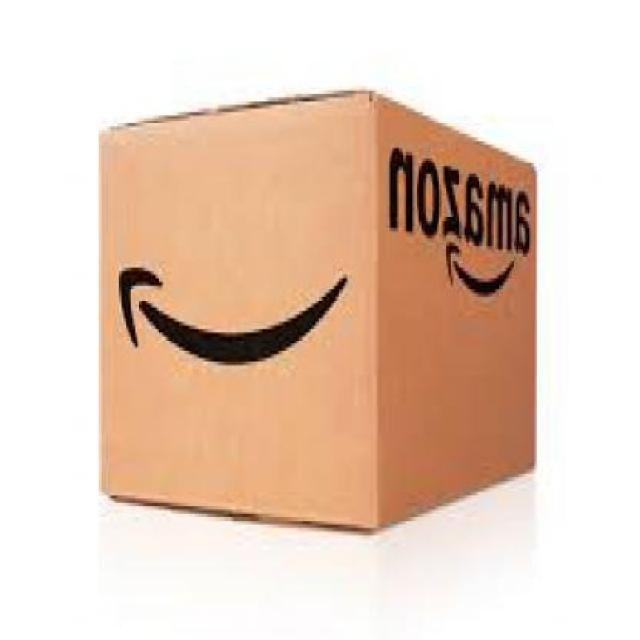cardboxes: (97, 84, 541, 542)
